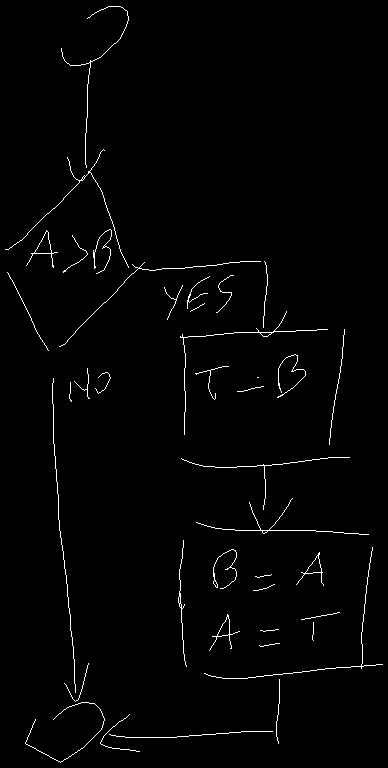arrow: (100, 679, 279, 751), (52, 378, 88, 701), (132, 261, 286, 336), (67, 60, 104, 180), (249, 464, 292, 533)
connection: (25, 702, 104, 762), (61, 6, 128, 65)
decision: (5, 171, 144, 350)
process: (178, 522, 382, 678), (180, 329, 349, 467)
text: (209, 549, 339, 650), (195, 354, 305, 399), (26, 229, 111, 273), (164, 275, 233, 319), (69, 368, 110, 401)
